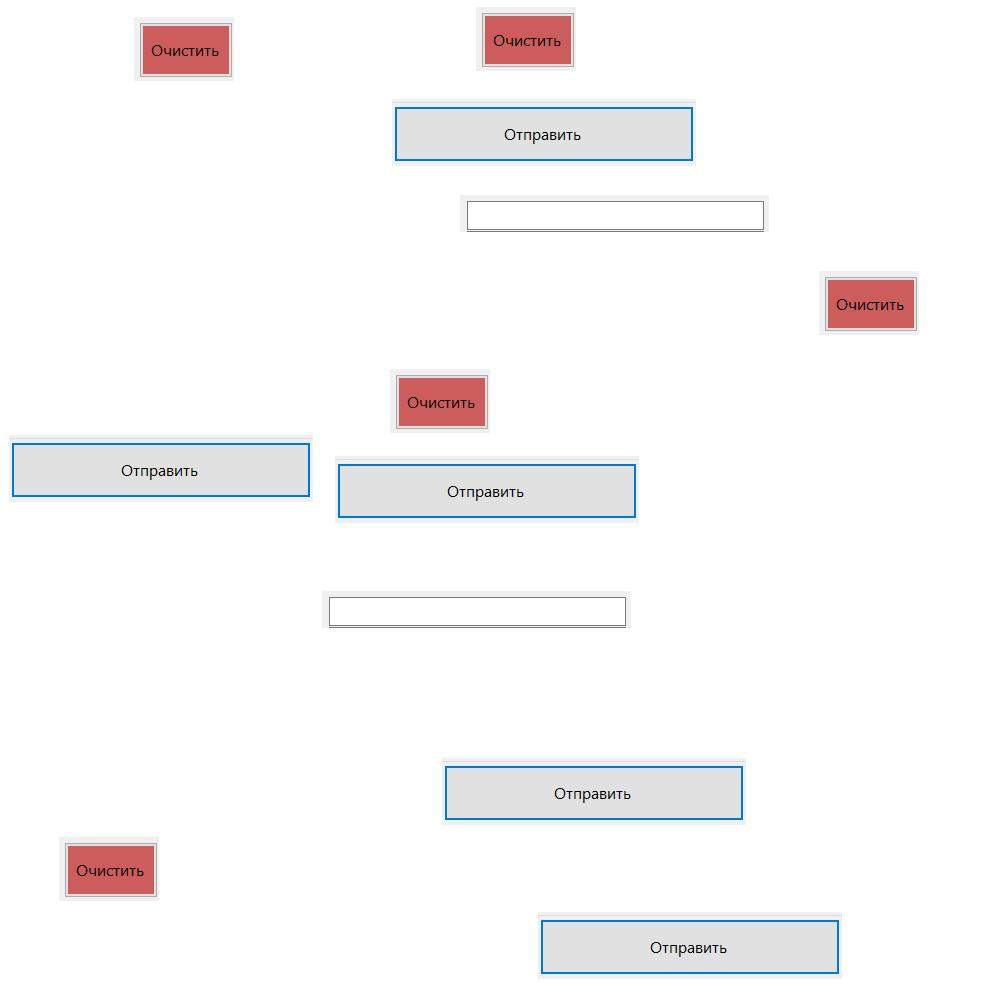Button: (9, 435, 313, 502), (442, 758, 746, 825), (335, 456, 639, 523), (392, 99, 696, 166), (538, 912, 842, 979), (476, 7, 576, 71), (134, 17, 234, 81), (819, 271, 919, 335), (59, 837, 159, 901), (390, 369, 490, 433)
EditText-: (322, 591, 631, 628), (460, 195, 769, 232)
